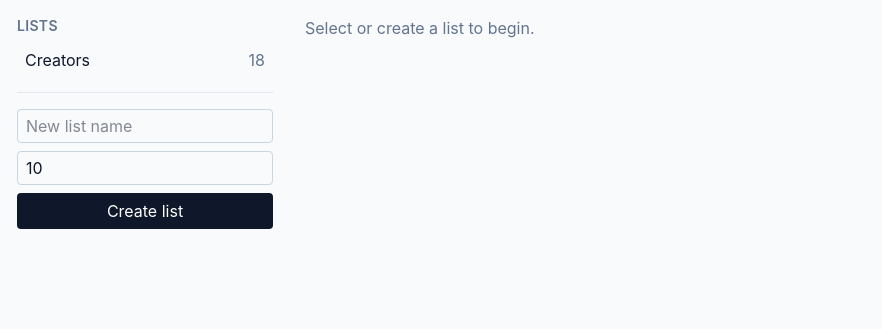
Test: WaitingListsView › surfaces an error when a mutation fails
Click the button "Creators 18" at (145, 60), box [17,44,273,76]
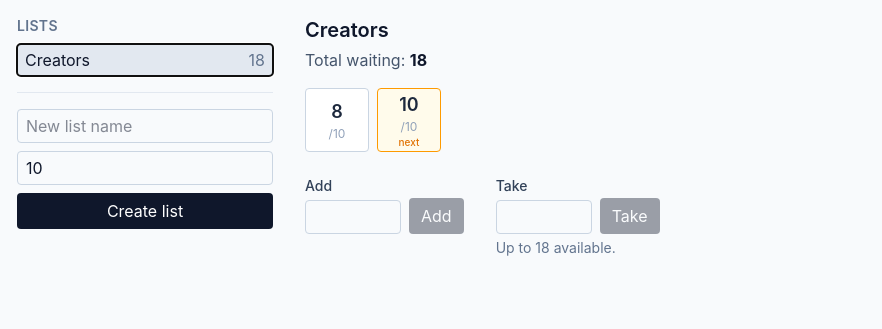
Type "5" into the field labelled "Take" at (544, 217), box [496,200,592,234]
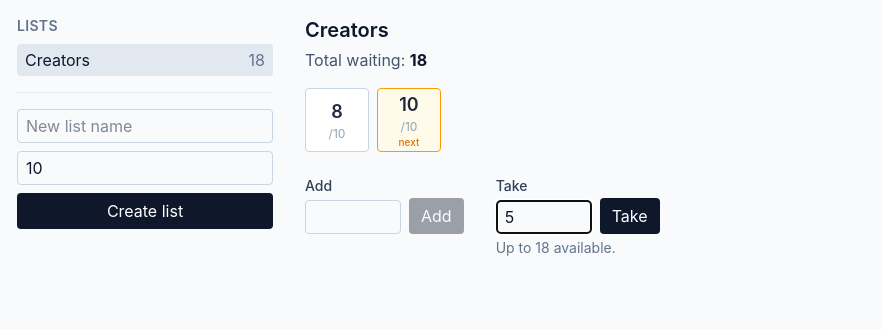
Click the button "Take" at (630, 216), box [600,198,660,234]
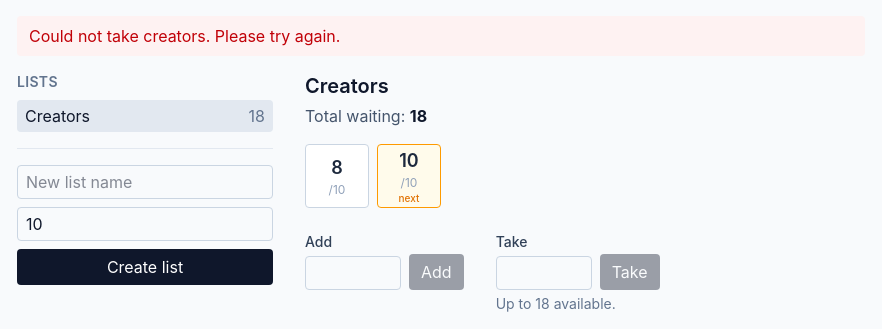
Expected: the text "Could not take creators. Please try again." is shown, [17,16,865,56]
